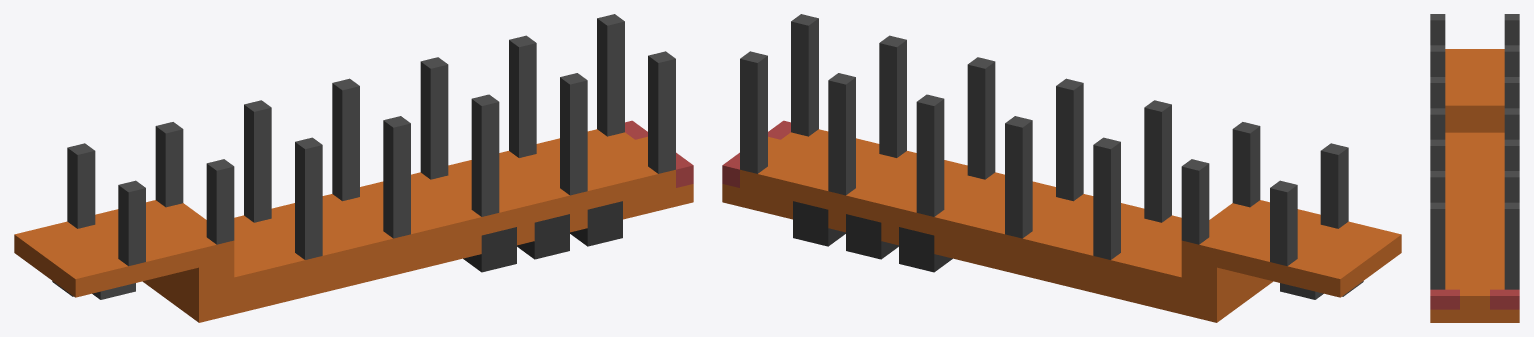
Rendered from semitrailer-v3-orange.gltf.
3 views of the same model, side by side, from view 1: azimuth 30°, elevation 25°; view 2: azimuth 150°, elevation 25°; view 3: azimuth 270°, elevation 25° (orthographic). The views are drawn at different scales.
Visible parts, largest first — view 1: model, wheels; view 2: model, wheels; view 3: model.
Boxes of the visible parts, bbox=[...] form: model: bbox=[14, 14, 693, 322]; wheels: bbox=[463, 201, 622, 272]; model: bbox=[722, 14, 1401, 322]; wheels: bbox=[793, 201, 952, 272]; model: bbox=[1430, 14, 1519, 322].
Size of the model in its own units: 3.5 by 0.9 by 0.6.
Materials: 2 (2 with a texture image).
